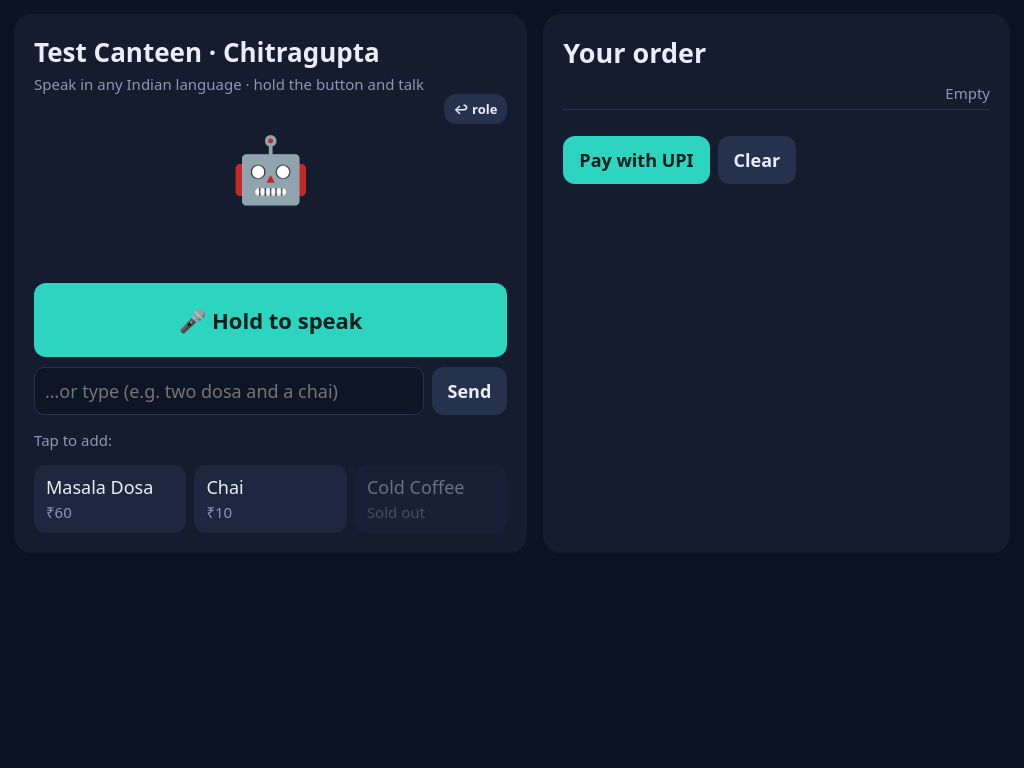
Scenario: Counter › tapping an item sends it to the server and prices the cart from the catalog
Click the button "Masala Dosa₹60": (110, 499) [34, 465, 186, 533]
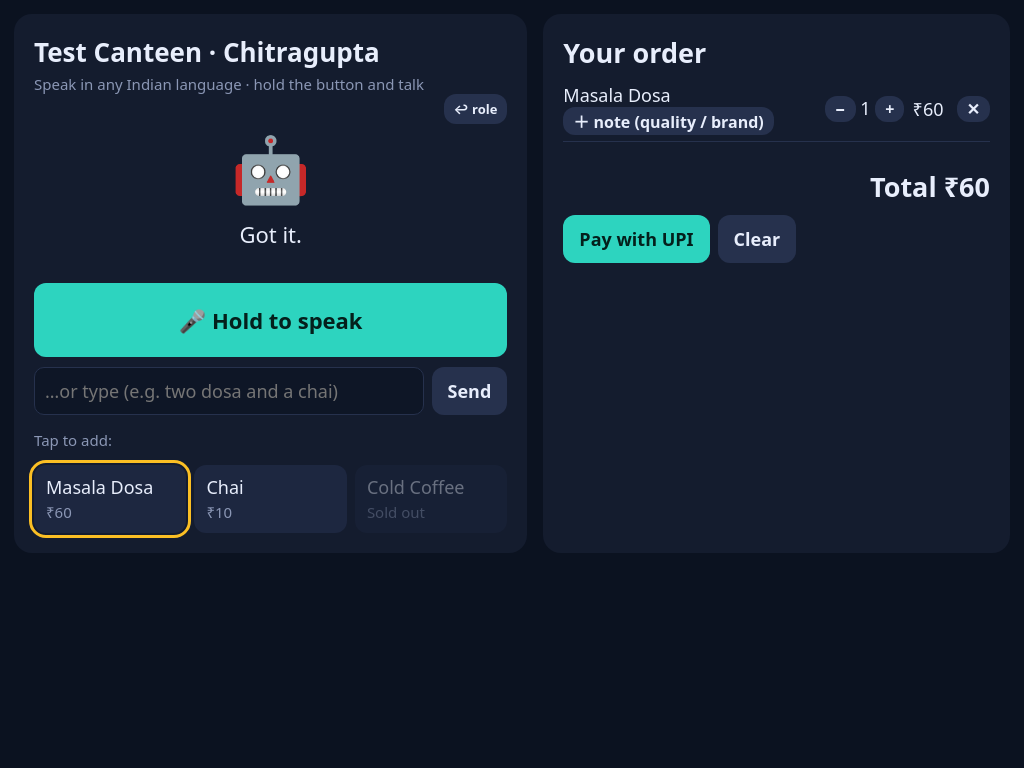
Now the button named "Increase Masala Dosa" is shown, box [875, 96, 904, 122]
Now the heading "Total ₹60" is shown, box [870, 168, 990, 205]
